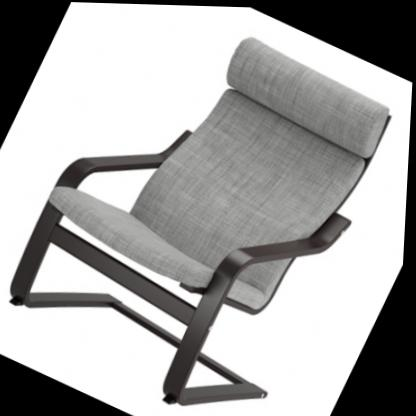Chair: (0, 0, 414, 416)
